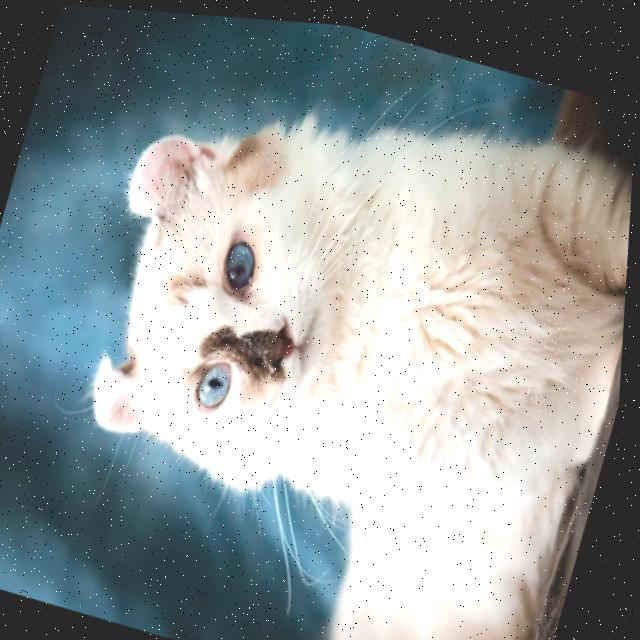American Curl: (13, 3, 640, 640)
